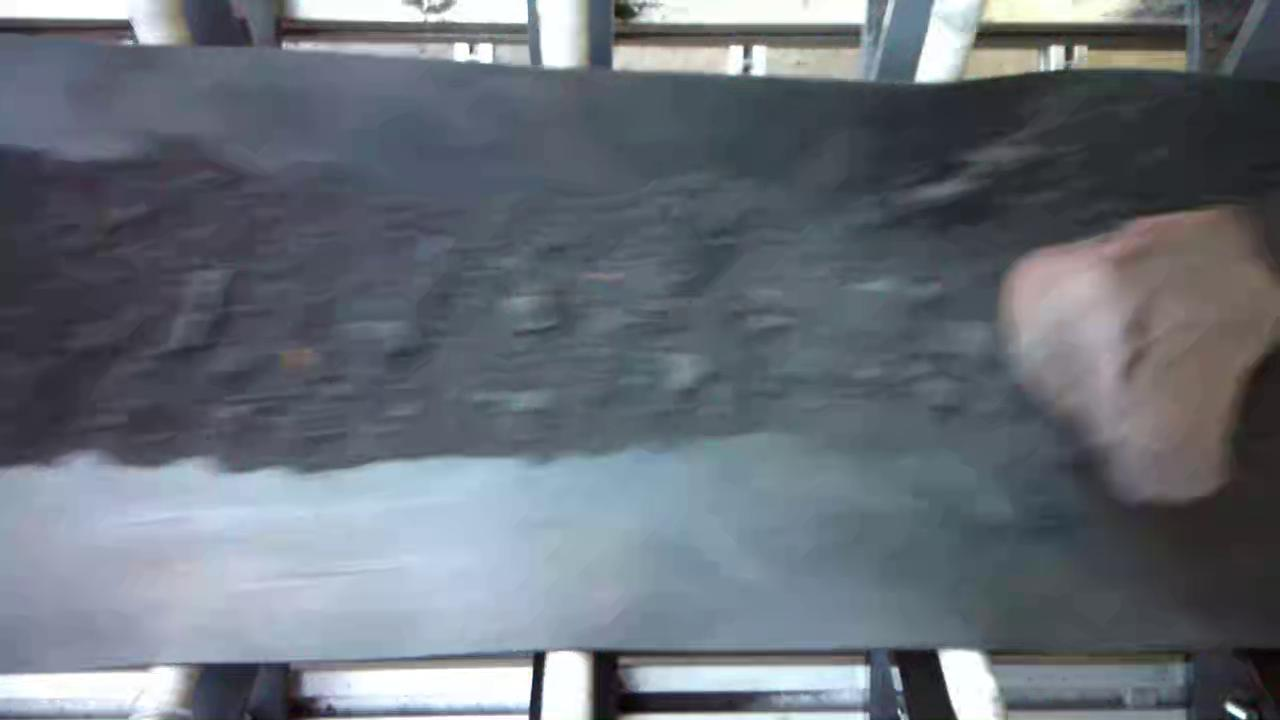conveyor: (1, 81, 1280, 639)
